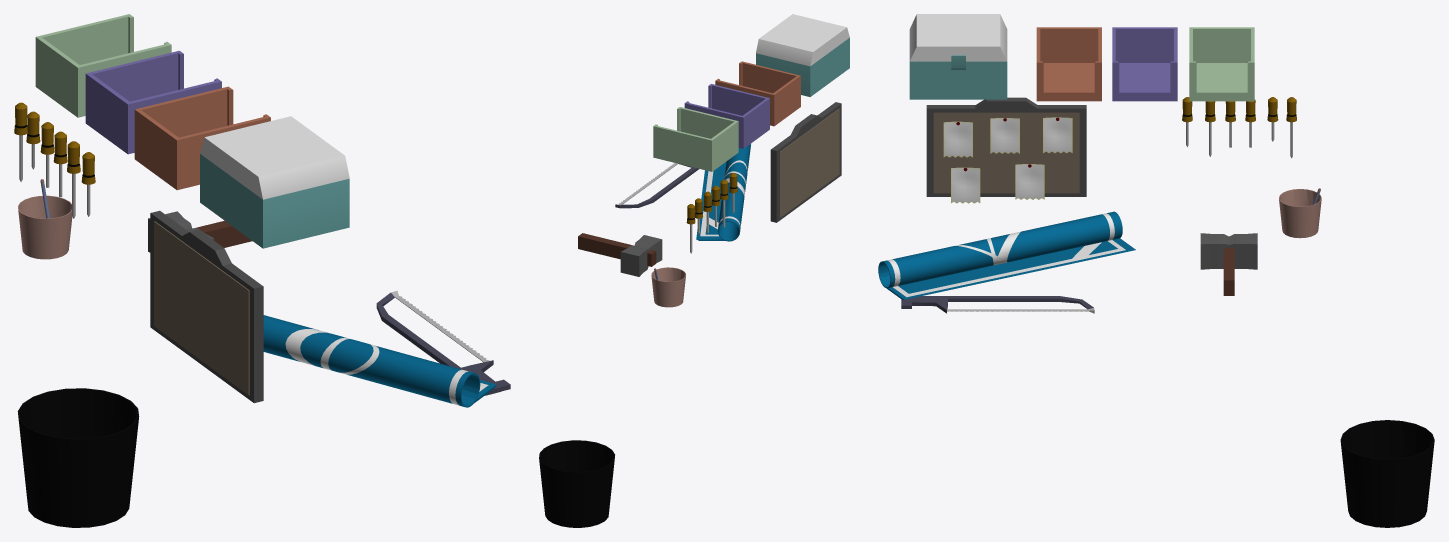
File: ProductosMesa 1.fbx
3 views of the same model, side by side, from view 1: azimuth 30°, elevation 25°; view 2: azimuth 150°, elevation 25°; view 3: azimuth 270°, elevation 25° (orthographic). The views are drawn at different scales.
Visible parts, largest first — view 1: pCylinder23; view 2: pCylinder23; view 3: pCylinder23.
Part boxes in pixels (box(x1,y1,x2,y2)): pCylinder23: box(14, 14, 510, 527); pCylinder23: box(539, 14, 849, 527); pCylinder23: box(878, 14, 1434, 527).
Bounding box in the file's own units: 2.36 × 5.1 × 5.71.
